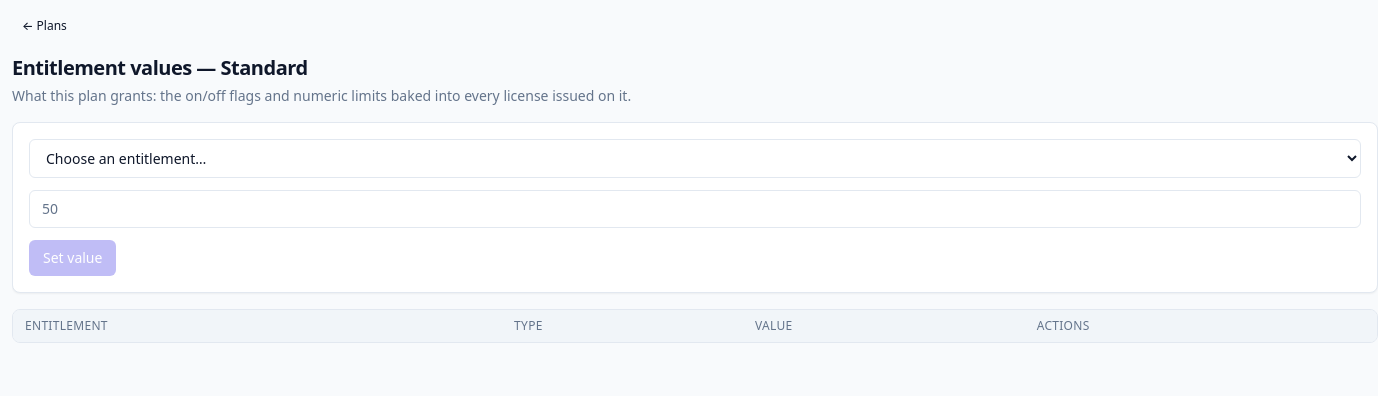
Test case: PlanValues (US4) › shows an inline error when a value doesn't match the entitlement type (400)
The image size is (1378, 396).
Expected: the form named "Set entitlement value" is shown, left=29, top=139, right=1361, bottom=276
Select "max-projects (integer_limit)" in the dropdown named "Entitlement": (695, 158) left=29, top=139, right=1361, bottom=178
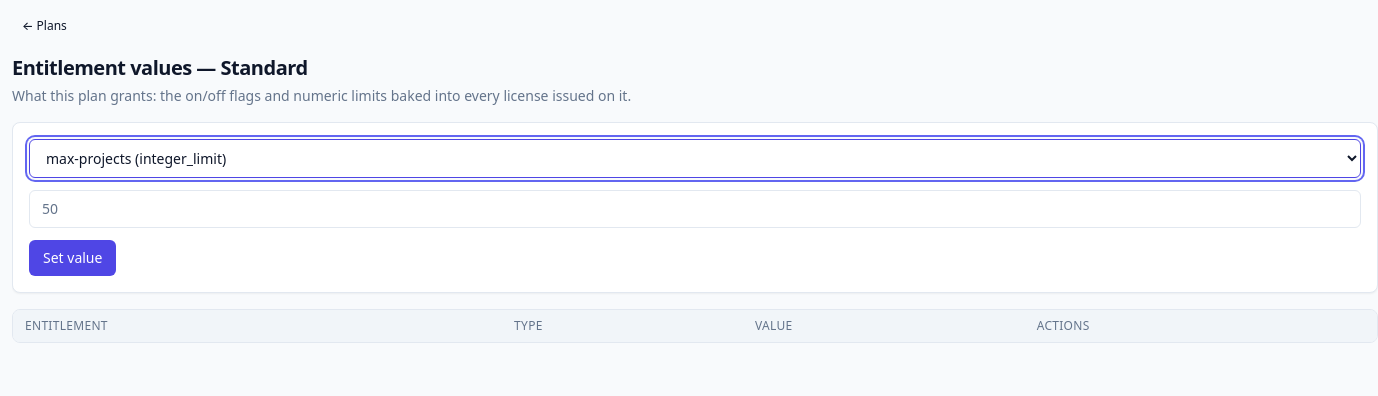
In the field named "Limit value": (695, 209) left=29, top=190, right=1361, bottom=228, type "not-a-number"
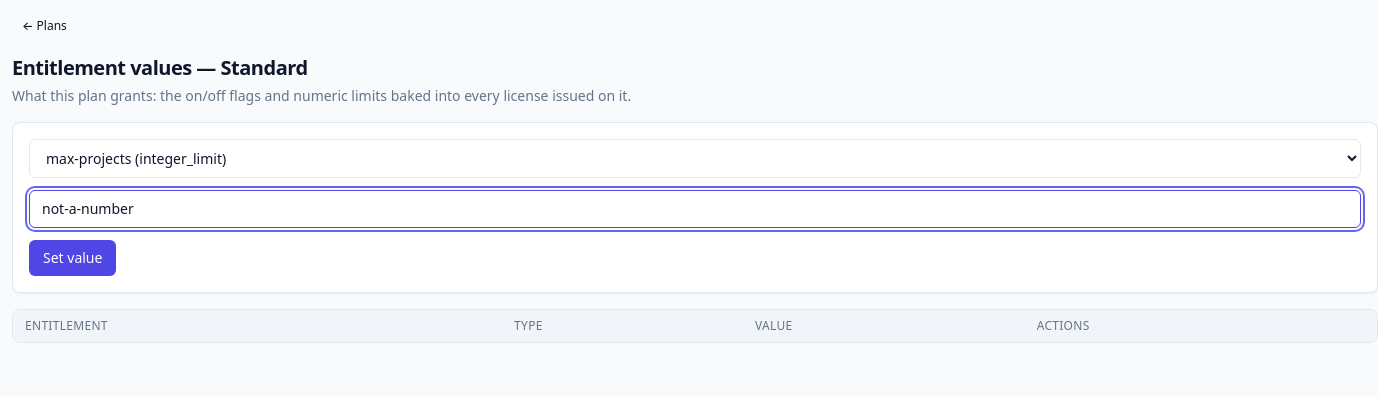
Click the button "Set value": (73, 258) left=29, top=240, right=116, bottom=276
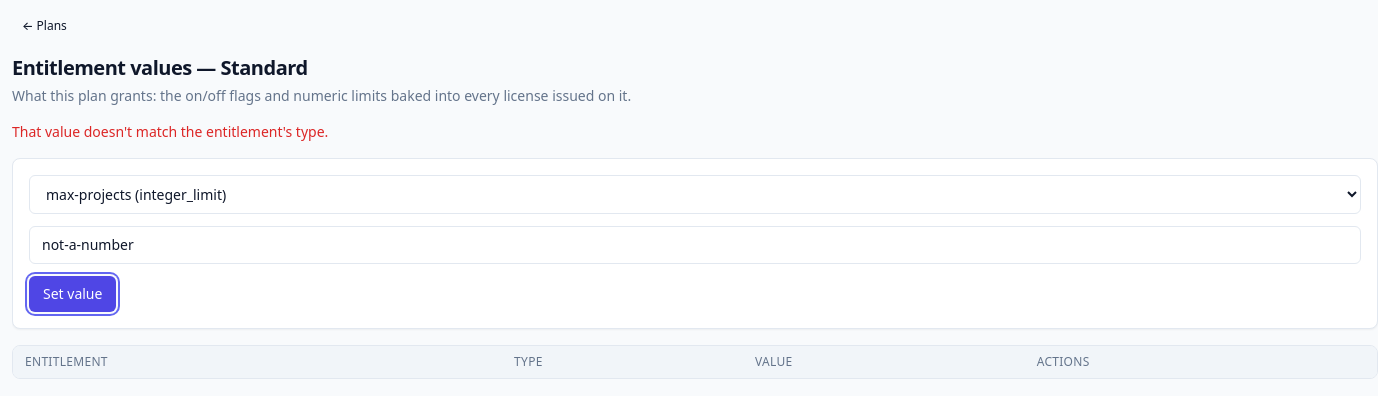
Now the message shows "doesn't match", box left=12, top=122, right=328, bottom=141
